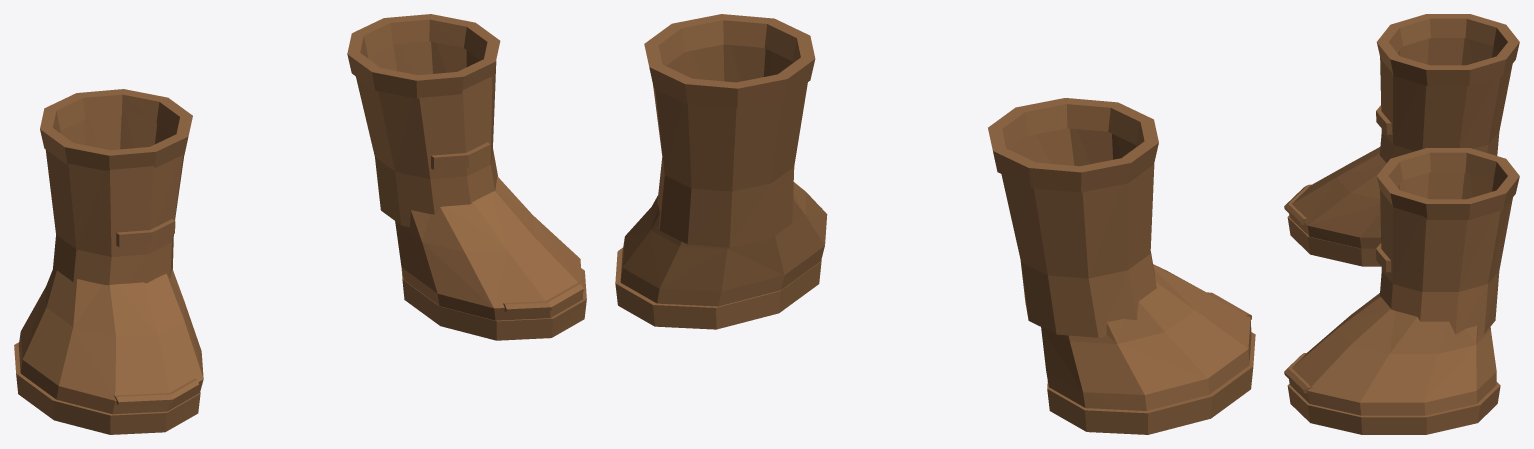
Rendered from leather_feet-male.glb.
3 renders of one model, left to right at view 1: azimuth 30°, elevation 25°; view 2: azimuth 150°, elevation 25°; view 3: azimuth 270°, elevation 25°, orthographic. The views are drawn at different scales.
Parts seen in each view (by area): view 1: leather boot foot -1, leather boot foot 1, leather boot upper 1, leather boot upper -1, Turned boot cuff 1, Turned boot cuff -1, Boot sole -1, Boot sole 1, Boot ankle strap -1, Boot ankle strap 1, Boot toe welt -1, Boot toe welt 1; view 2: leather boot upper 1, leather boot upper -1, leather boot foot -1, leather boot foot 1, Turned boot cuff 1, Turned boot cuff -1, Boot sole -1, Boot sole 1; view 3: leather boot foot 1, leather boot upper 1, leather boot upper -1, Turned boot cuff -1, Turned boot cuff 1, leather boot foot -1, Boot sole 1, Boot sole -1, Boot toe welt 1, Boot toe welt -1, Boot ankle strap 1, Boot ankle strap -1.
Part boxes in pixels (<box>): leather boot foot -1: <box>18,268,203,414</box>; leather boot foot 1: <box>395,176,582,320</box>; leather boot upper 1: <box>356,41,497,226</box>; leather boot upper -1: <box>45,112,183,285</box>; Turned boot cuff 1: <box>347,14,500,98</box>; Turned boot cuff -1: <box>40,89,192,170</box>; Boot sole -1: <box>14,342,200,434</box>; Boot sole 1: <box>401,268,586,340</box>; Boot ankle strap -1: <box>116,219,175,247</box>; Boot ankle strap 1: <box>431,142,490,170</box>; Boot toe welt -1: <box>113,378,199,405</box>; Boot toe welt 1: <box>503,282,583,312</box>; leather boot upper 1: <box>653,44,807,247</box>; leather boot upper -1: <box>1001,128,1156,337</box>; leather boot foot -1: <box>1041,264,1251,410</box>; leather boot foot 1: <box>620,182,827,306</box>; Turned boot cuff 1: <box>644,14,815,108</box>; Turned boot cuff -1: <box>988,98,1158,192</box>; Boot sole -1: <box>1047,332,1255,434</box>; Boot sole 1: <box>615,247,821,329</box>; leather boot foot 1: <box>1289,293,1496,415</box>; leather boot upper 1: <box>1379,172,1512,335</box>; leather boot upper -1: <box>1379,38,1512,162</box>; Turned boot cuff -1: <box>1376,14,1519,85</box>; Turned boot cuff 1: <box>1376,148,1519,219</box>; leather boot foot -1: <box>1289,147,1386,248</box>; Boot sole 1: <box>1287,382,1500,434</box>; Boot sole -1: <box>1287,215,1380,266</box>; Boot toe welt 1: <box>1284,353,1312,393</box>; Boot toe welt -1: <box>1284,184,1311,224</box>; Boot ankle strap 1: <box>1376,243,1391,272</box>; Boot ankle strap -1: <box>1376,105,1392,134</box>.
Size of the model in its own units: 2.84 by 1.2 by 1.22.
